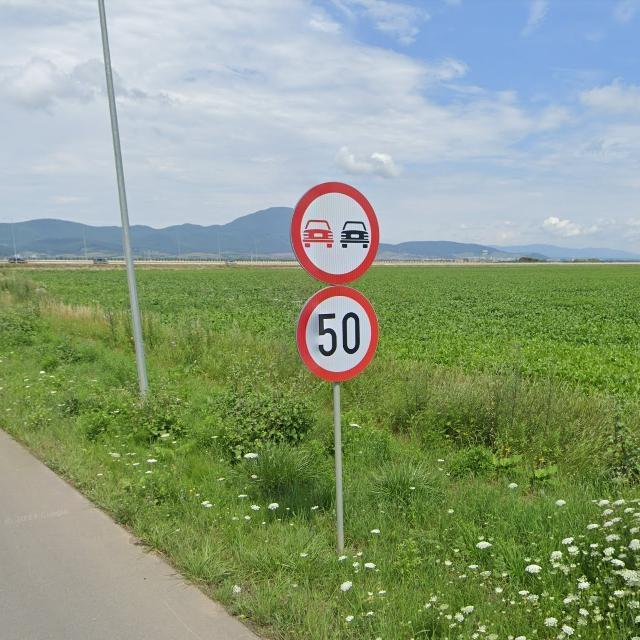forb_overtake: (288, 183, 378, 284)
forb_speed_over_50: (296, 286, 379, 381)
